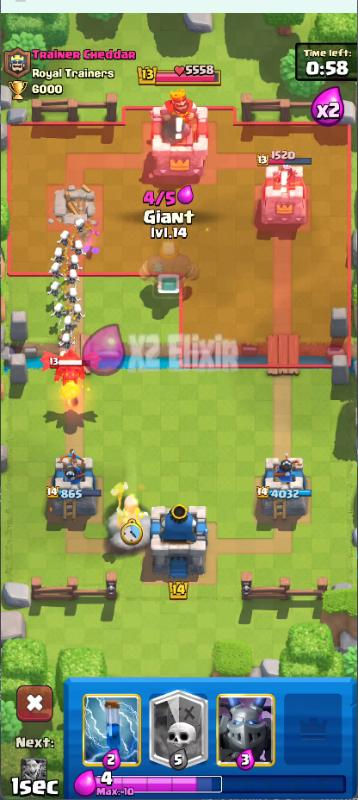squelette: (57, 333, 78, 348), (60, 314, 76, 333), (49, 300, 65, 319), (49, 246, 67, 262), (72, 303, 86, 323), (67, 254, 83, 271), (73, 238, 87, 257), (57, 228, 71, 246), (65, 287, 82, 301), (50, 279, 62, 298), (48, 265, 63, 280), (73, 218, 89, 232), (66, 269, 82, 282), (49, 282, 61, 298)
